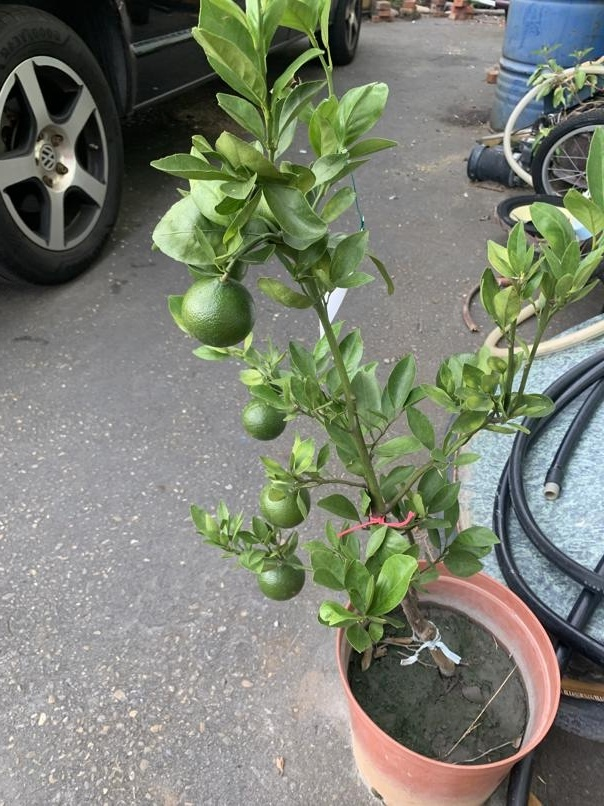Tangerine: (183, 275, 257, 348), (253, 475, 312, 527), (253, 553, 307, 603), (238, 393, 290, 442)
